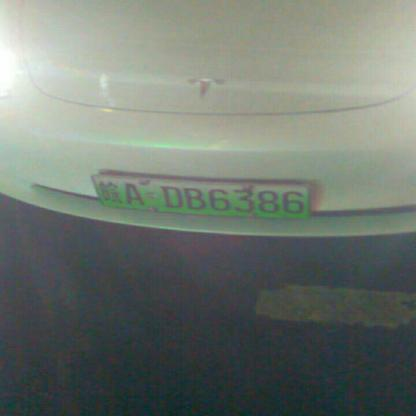lp: (92, 175, 309, 218)
